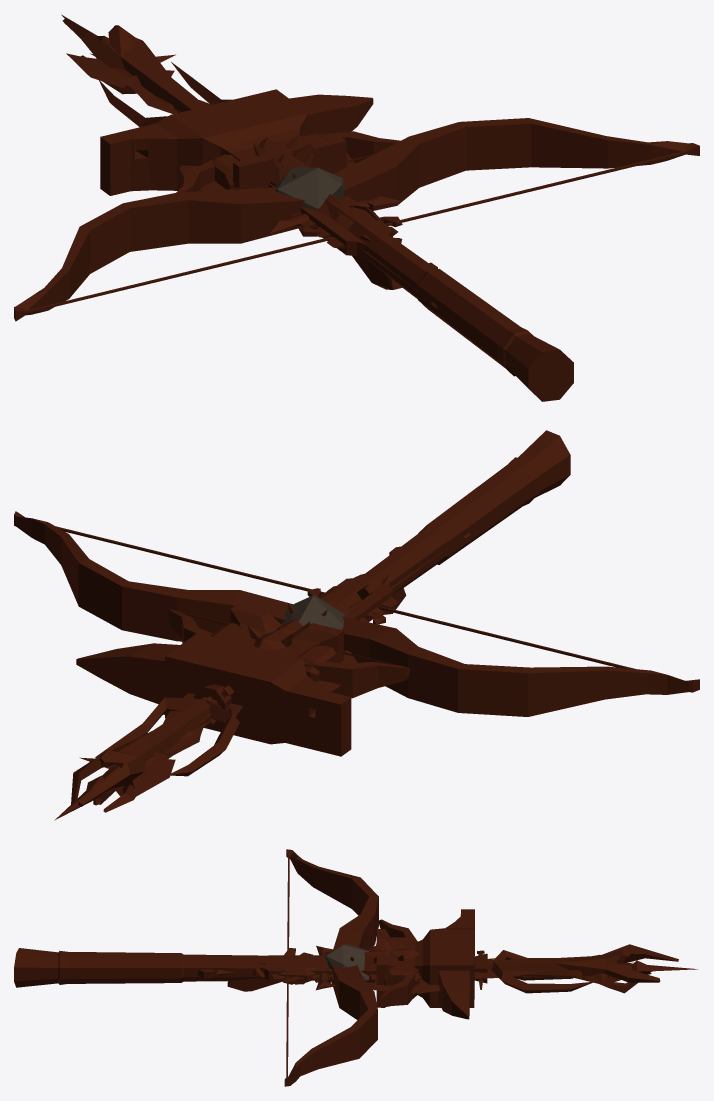
File: Scene_Master_Collection.glb
3 views of the same model, one above another, from view 1: azimuth 30°, elevation 25°; view 2: azimuth 150°, elevation 25°; view 3: azimuth 270°, elevation 25° (orthographic). The views are drawn at different scales.
Visible parts, largest first — view 1: Bow, Anvil_Hammer, Wizard_Staff, Crossbow, Big_Rock, Macuahuitl, Spiked_Club, Pitchfork, Halberd, Double_Hammer, Great_Sword; view 2: Anvil_Hammer, Bow, Wizard_Staff, Crossbow, Pitchfork, Halberd, Big_Rock, Macuahuitl, Spiked_Club, Double_Hammer; view 3: Anvil_Hammer, Bow, Wizard_Staff, Crossbow, Pitchfork, Big_Rock, Spiked_Club, Macuahuitl, Double_Hammer, Double_Axe, Kopesh, Cutlass.
Part boxes in pixels (bbox=[...]): Bow: bbox=[14, 118, 699, 321]; Anvil_Hammer: bbox=[100, 89, 573, 401]; Wizard_Staff: bbox=[62, 17, 205, 111]; Crossbow: bbox=[176, 131, 402, 289]; Big_Rock: bbox=[274, 167, 344, 209]; Macuahuitl: bbox=[268, 183, 397, 259]; Spiked_Club: bbox=[253, 134, 342, 217]; Pitchfork: bbox=[99, 62, 232, 126]; Halberd: bbox=[61, 14, 175, 88]; Double_Hammer: bbox=[212, 133, 327, 189]; Great_Sword: bbox=[267, 193, 401, 233]; Anvil_Hammer: bbox=[76, 430, 570, 756]; Bow: bbox=[14, 511, 699, 716]; Wizard_Staff: bbox=[71, 697, 217, 812]; Crossbow: bbox=[168, 574, 410, 698]; Pitchfork: bbox=[95, 696, 239, 776]; Halberd: bbox=[54, 756, 175, 820]; Big_Rock: bbox=[281, 594, 344, 629]; Macuahuitl: bbox=[321, 577, 398, 622]; Spiked_Club: bbox=[247, 597, 352, 650]; Double_Hammer: bbox=[210, 623, 340, 681]; Anvil_Hammer: bbox=[14, 909, 487, 1019]; Bow: bbox=[284, 849, 378, 1086]; Wizard_Staff: bbox=[487, 944, 678, 993]; Crossbow: bbox=[227, 919, 418, 1007]; Pitchfork: bbox=[487, 950, 595, 993]; Big_Rock: bbox=[324, 944, 369, 982]; Spiked_Club: bbox=[309, 938, 419, 982]; Macuahuitl: bbox=[259, 955, 376, 980]; Double_Hammer: bbox=[384, 937, 419, 998]; Double_Axe: bbox=[366, 946, 440, 993]; Kopesh: bbox=[251, 967, 538, 978]; Cutlass: bbox=[278, 958, 494, 982].
Bounding box in the file's own units: 245 × 25.86 × 309.
